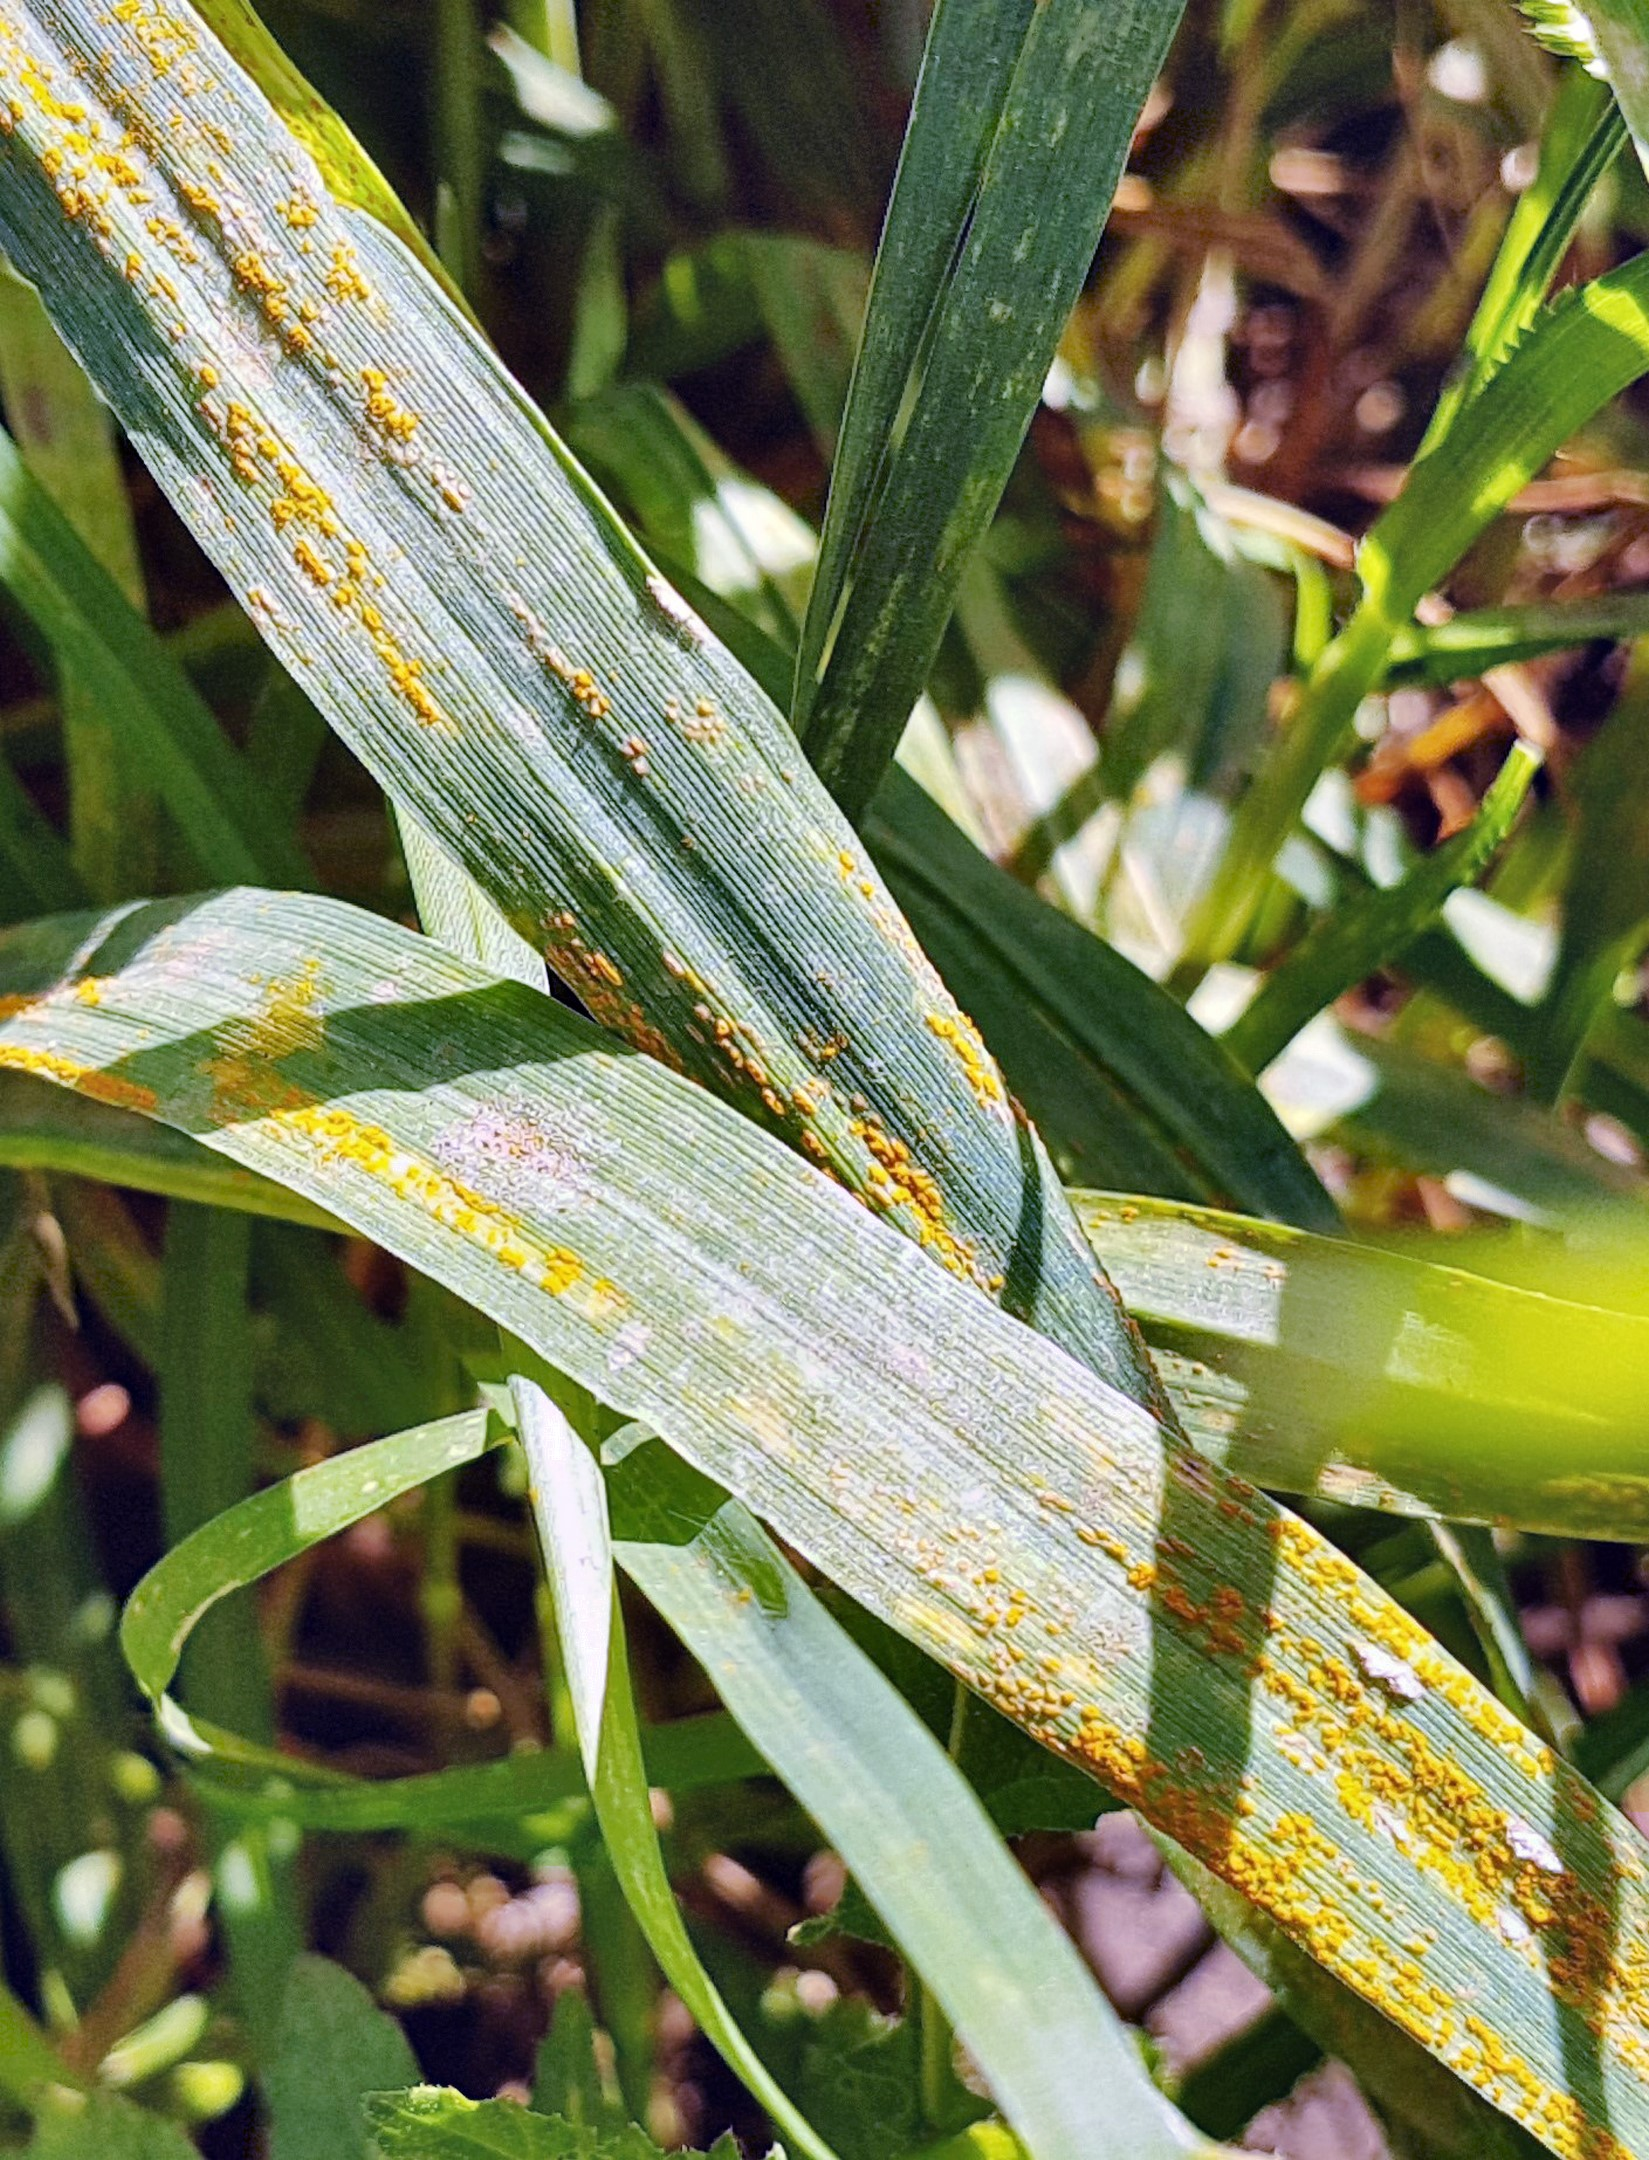Leaf Rust: (930, 1419, 1649, 2137)
